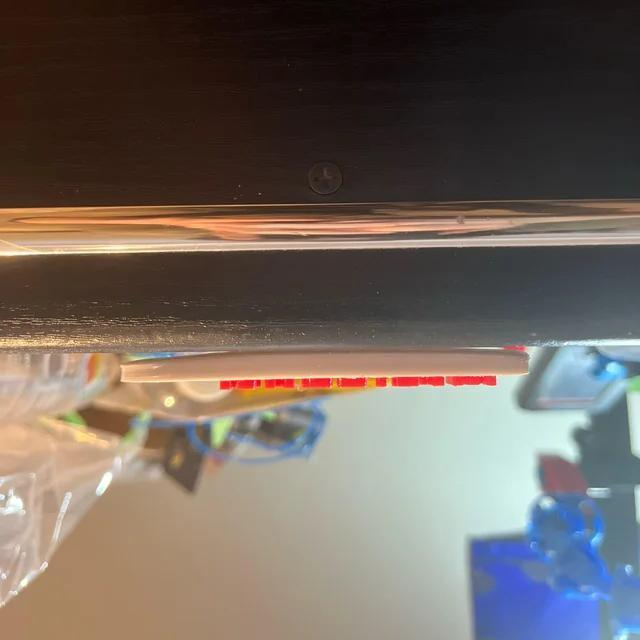Warping: (120, 348, 210, 374), (458, 338, 528, 361)
